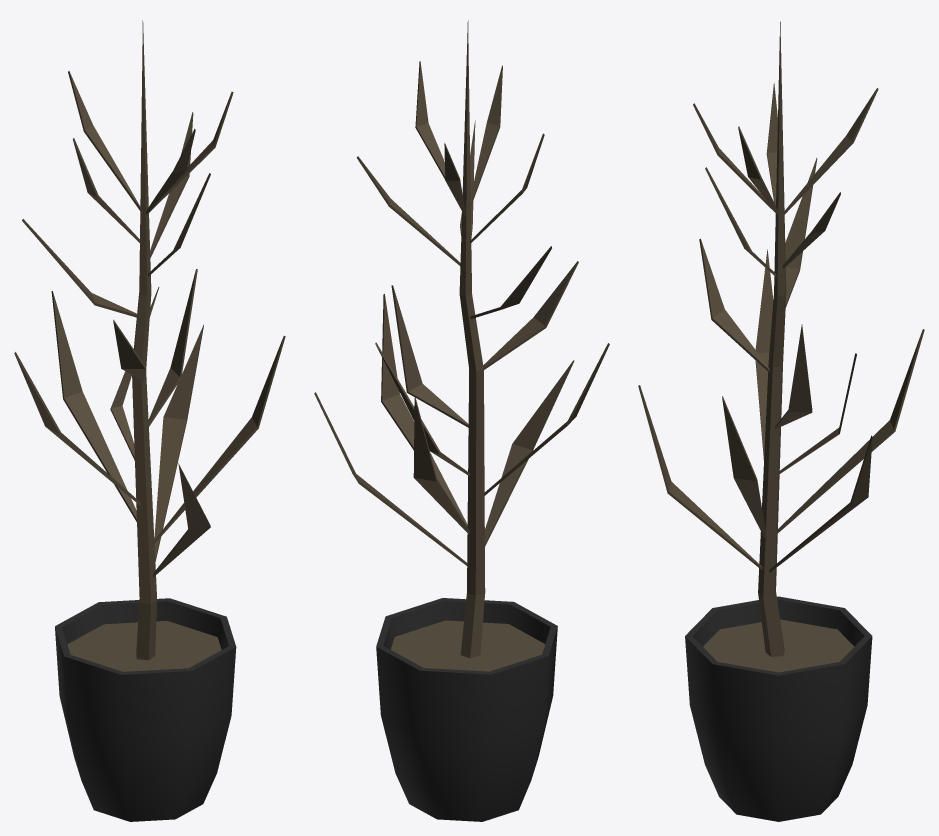
Rendered from Dead Houseplant.glb.
3 views of the same model, side by side, from view 1: azimuth 30°, elevation 25°; view 2: azimuth 150°, elevation 25°; view 3: azimuth 270°, elevation 25° (orthographic).
Visible parts, largest first — view 1: Dead Houseplant; view 2: Dead Houseplant; view 3: Dead Houseplant.
Boxes of the visible parts, x1,y1,x2,y2 form: Dead Houseplant: [14, 20, 285, 821]; Dead Houseplant: [314, 20, 609, 821]; Dead Houseplant: [638, 21, 924, 821].
Bounding box in the file's own units: 0.5171 × 1.56 × 0.5171.
